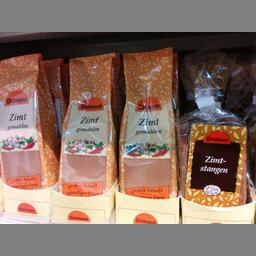spices: (120, 46, 176, 200), (58, 52, 114, 196), (181, 90, 248, 207), (1, 52, 55, 188)
